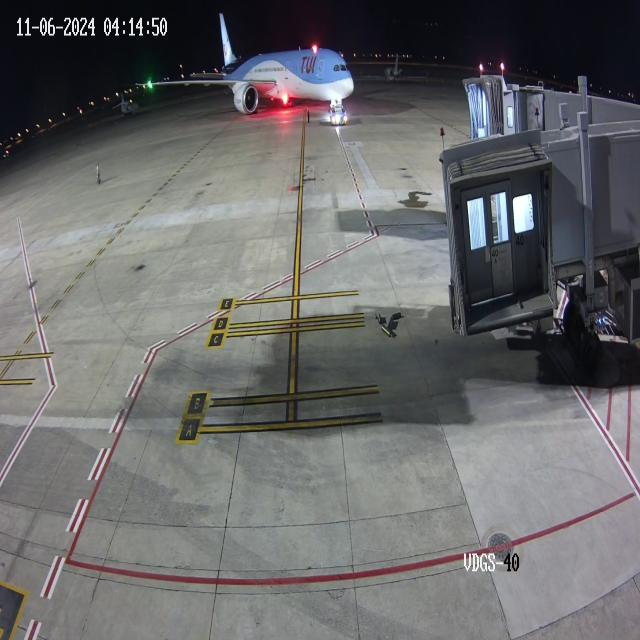bridge: (488, 72, 545, 136)
plane: (128, 0, 369, 127)
window: (332, 61, 351, 74)
